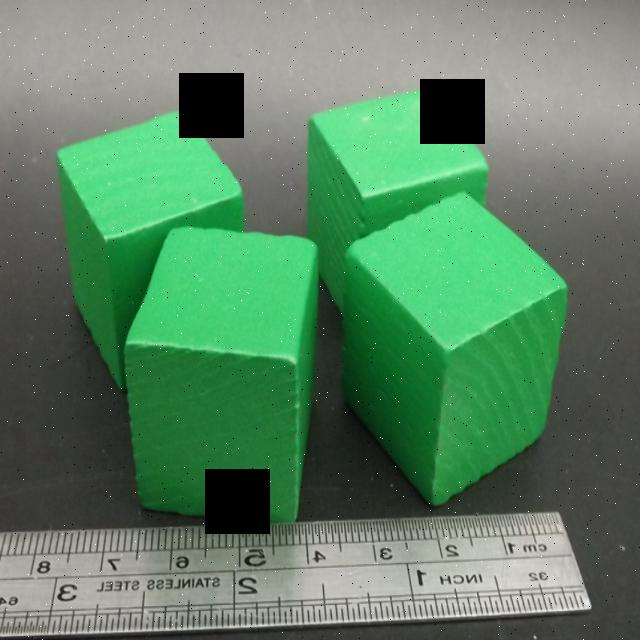green cube: (339, 190, 567, 511), (123, 223, 319, 525), (53, 109, 244, 394), (306, 86, 489, 316)
